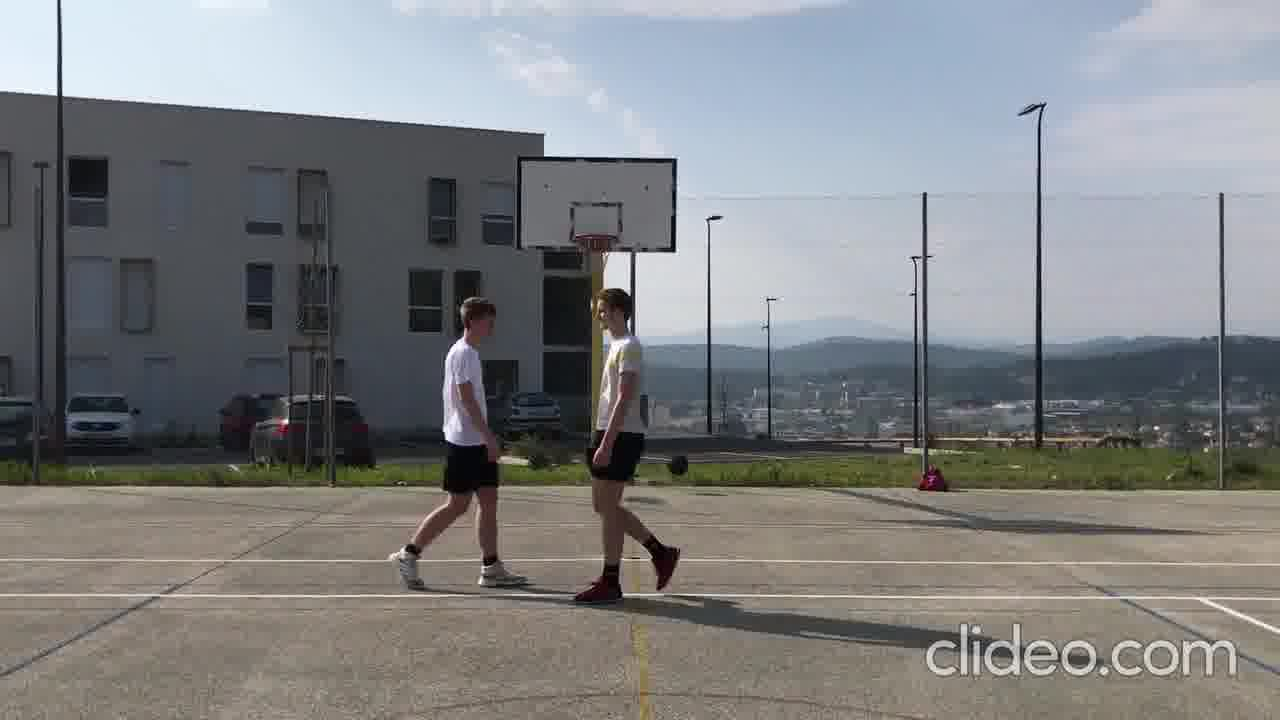jugador: (556, 282, 691, 615)
